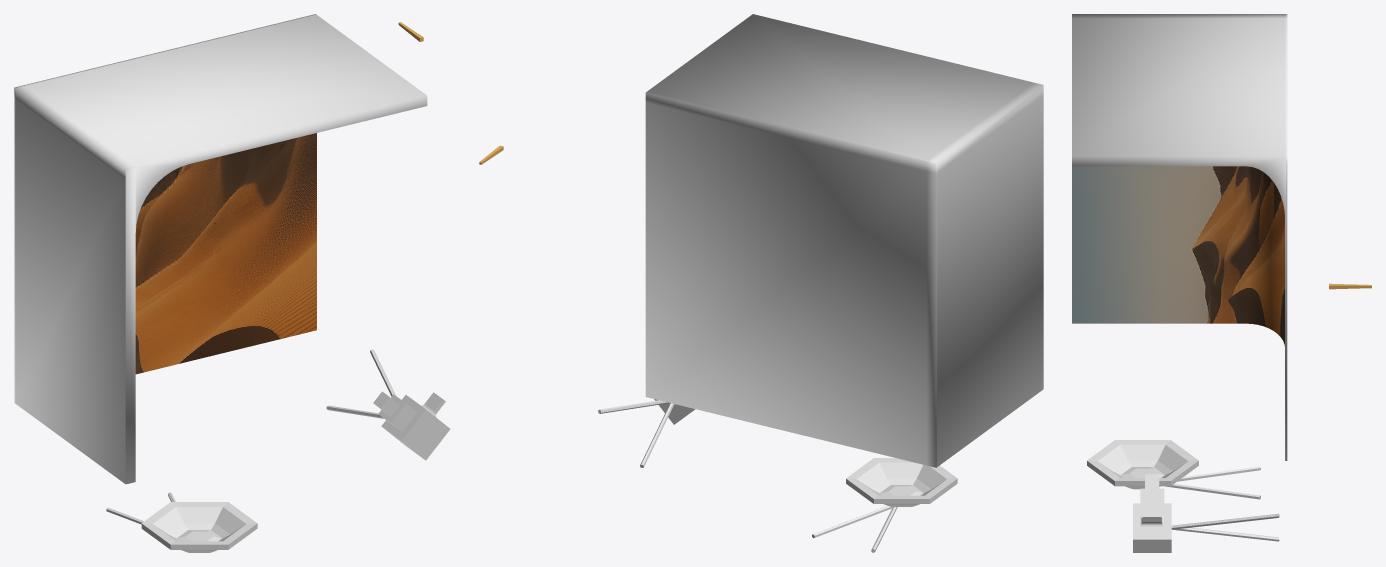
The picture shows the model from 3 angles, left to right: view 1: azimuth 30°, elevation 25°; view 2: azimuth 150°, elevation 25°; view 3: azimuth 270°, elevation 25°; orthographic projection. The views are drawn at different scales.
Visible parts, largest first — view 1: shadeGray.003, pureUc, shadeGray.002, shadeGray.001, shadeBlack; view 2: shadeGray.003, shadeGray.002, shadeBlack; view 3: shadeGray.003, pureUc, shadeGray.002, shadeGray.001, shadeBlack.
Boxes of the visible parts, x1=… form: shadeGray.003: x1=14, y1=14, x2=427, y2=484; pureUc: x1=135, y1=133, x2=316, y2=374; shadeGray.002: x1=141, y1=502, x2=257, y2=552; shadeGray.001: x1=373, y1=391, x2=450, y2=460; shadeBlack: x1=106, y1=349, x2=395, y2=524; shadeGray.003: x1=645, y1=14, x2=1043, y2=467; shadeGray.002: x1=846, y1=458, x2=957, y2=506; shadeBlack: x1=598, y1=400, x2=897, y2=552; shadeGray.003: x1=1072, y1=14, x2=1287, y2=460; pureUc: x1=1072, y1=166, x2=1284, y2=345; shadeGray.002: x1=1087, y1=440, x2=1198, y2=489; shadeGray.001: x1=1133, y1=474, x2=1171, y2=552; shadeBlack: x1=1165, y1=466, x2=1279, y2=541.
Bounding box in the file's own units: 9 × 8.65 × 5.61.
2 materials, 1 textured.
